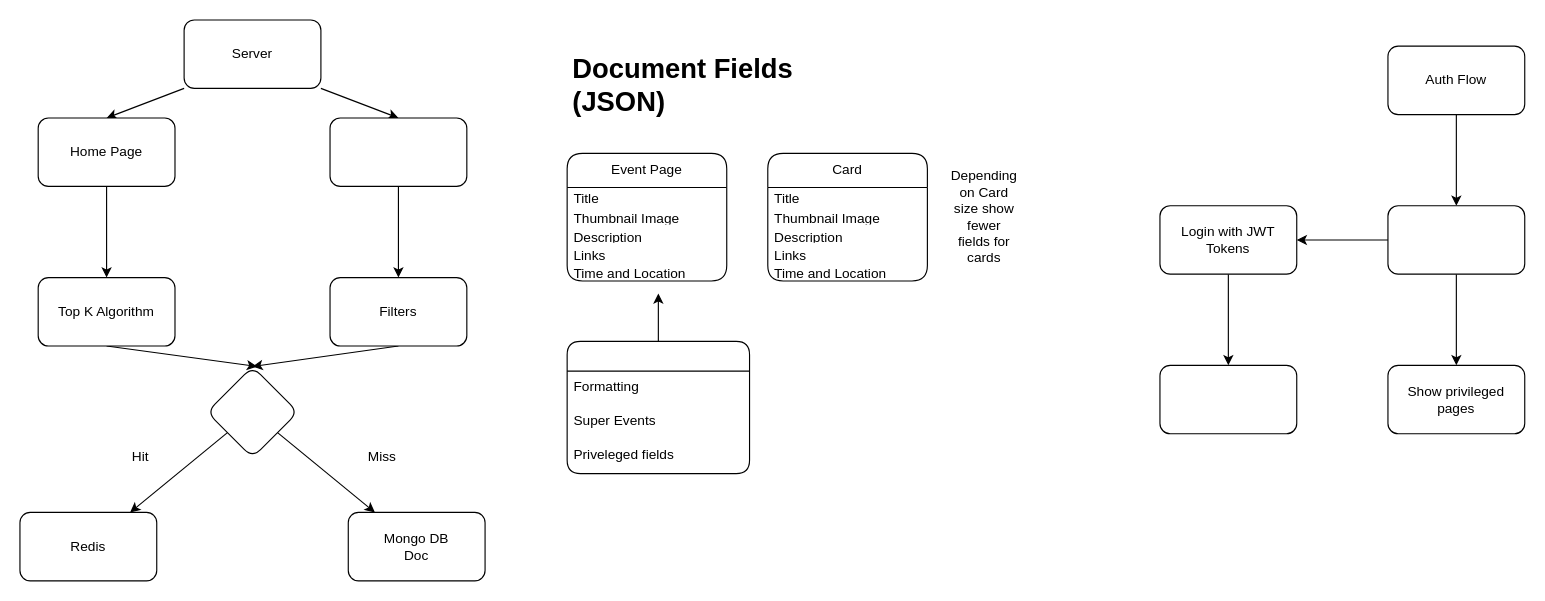
This 1545x601 diagram has some shape labels left out. The shapes that lost their labels are listed below. From the top down, each one's box as (x1, y1, x2, y2) in pixels, then its label:
(329, 117, 467, 186): All Pages
(1387, 205, 1525, 274): Register with email verification for only IITP students
(206, 365, 298, 458): Cache
(566, 340, 750, 474): Creation UI
(1159, 364, 1297, 434): Refresh tokens?
